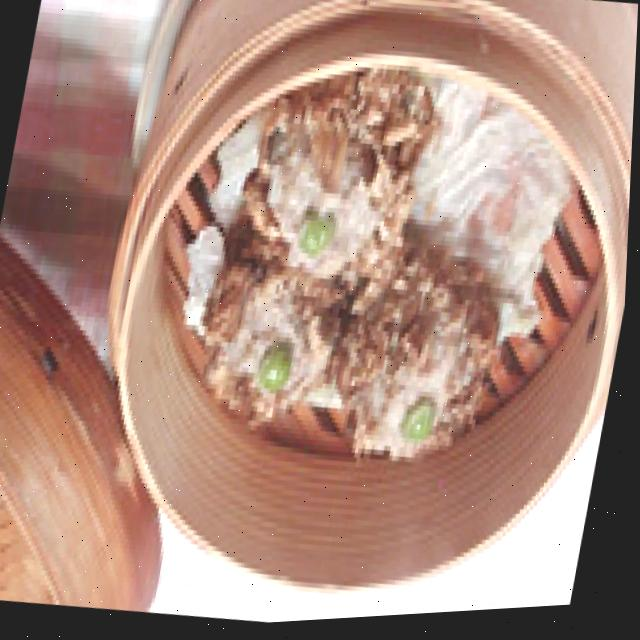带馅早点: (185, 62, 541, 496)
